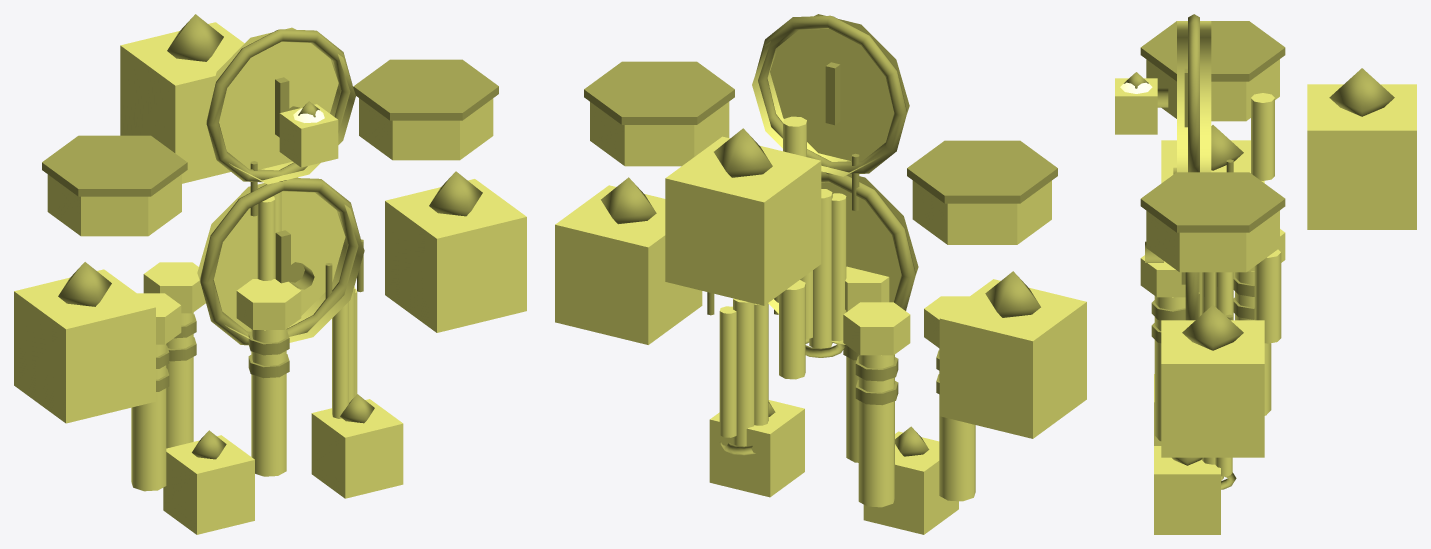
Rendered from golem_029.glb.
3 views of the same model, side by side, from view 1: azimuth 30°, elevation 25°; view 2: azimuth 150°, elevation 25°; view 3: azimuth 270°, elevation 25° (orthographic). The views are drawn at different scales.
Visible parts, largest first — view 1: Body, Detail; view 2: Body, Detail; view 3: Body, Detail.
Part boxes in pixels (x1,y1,x2,y2): Body: [14, 22, 526, 534]; Detail: [42, 14, 498, 459]; Body: [555, 14, 1086, 534]; Detail: [584, 15, 1057, 456]; Body: [1115, 21, 1416, 534]; Detail: [1123, 14, 1394, 489].
Bounding box in the file's own units: 1.24 × 1.2 × 0.7086.
